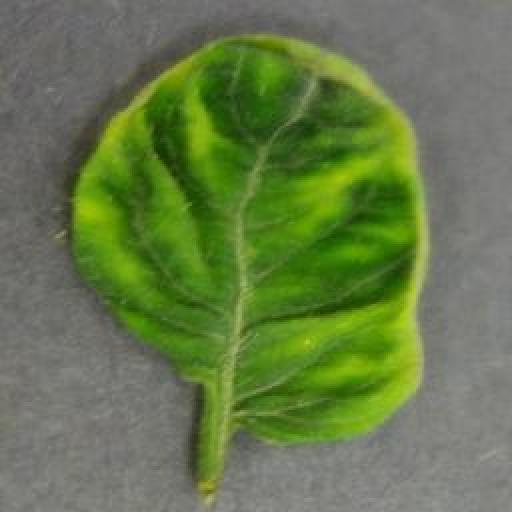Yellow Leaf Curl Virus: (71, 30, 435, 450)
